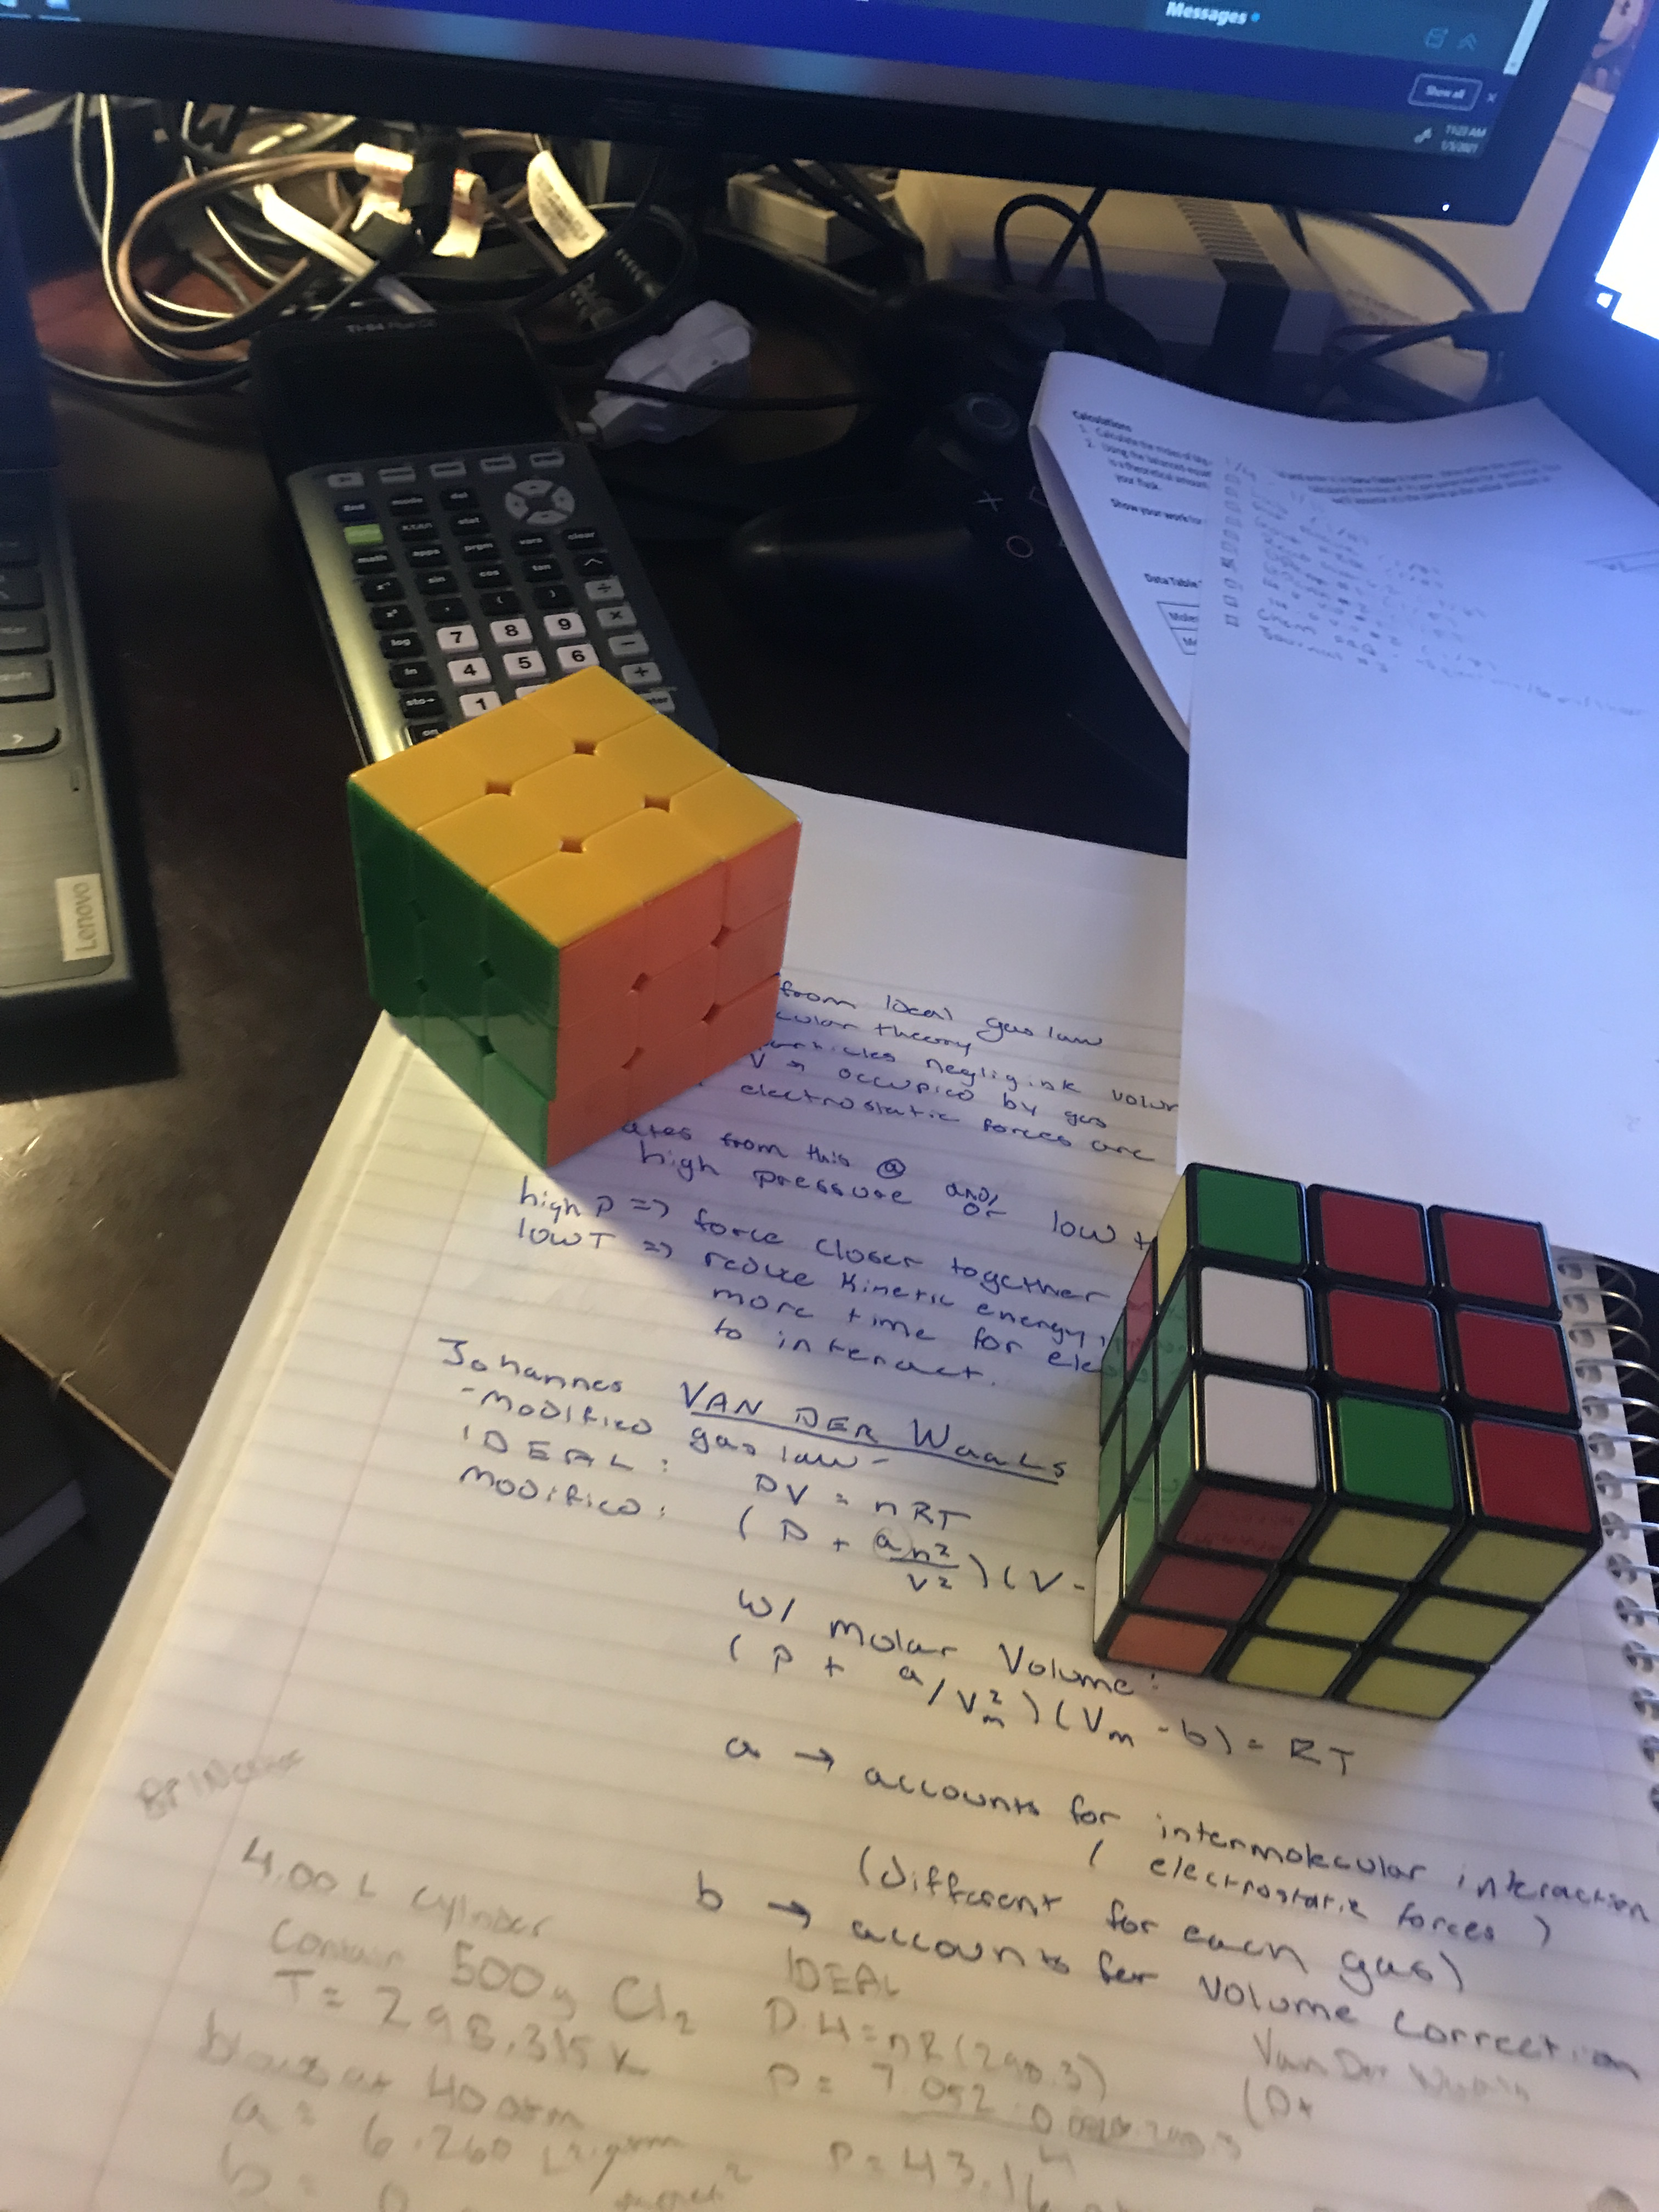rubiks: (1087, 1163, 1607, 1733), (342, 662, 803, 1177)
